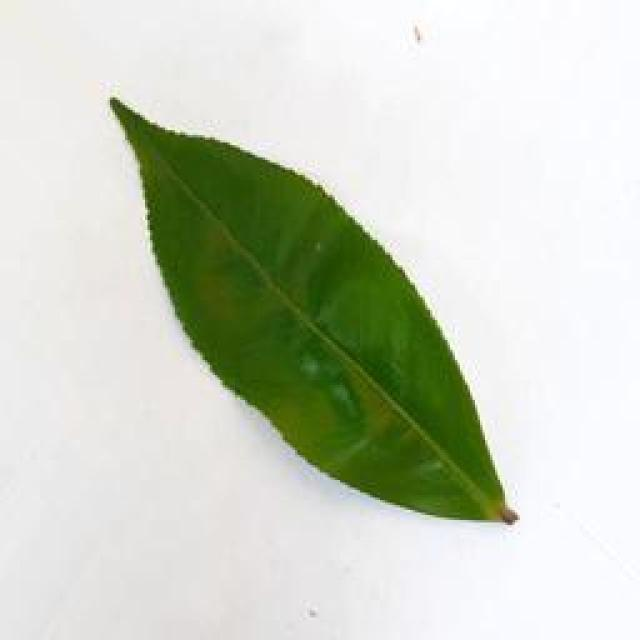Healthy: (102, 87, 522, 536)
